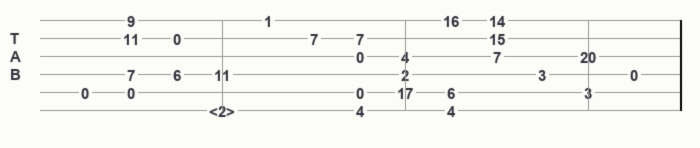0: (81, 85, 93, 100), (127, 85, 139, 100), (173, 31, 185, 46), (356, 49, 368, 64), (356, 85, 368, 100), (630, 67, 642, 82)
1: (264, 13, 276, 28)
11: (123, 31, 143, 46), (214, 67, 234, 82)
14: (489, 13, 509, 28)
15: (489, 31, 509, 46)
16: (443, 13, 463, 28)
17: (397, 85, 417, 100)
2: (401, 67, 413, 82)
20: (580, 49, 600, 64)
3: (538, 67, 550, 82), (584, 85, 596, 100)
4: (356, 103, 368, 118), (401, 49, 413, 64), (447, 103, 459, 118)
6: (173, 67, 185, 82), (447, 85, 459, 100)
7: (127, 67, 139, 82), (310, 31, 322, 46), (356, 31, 368, 46), (493, 49, 505, 64)
9: (127, 13, 139, 28)
harmonic: (209, 103, 239, 118)
